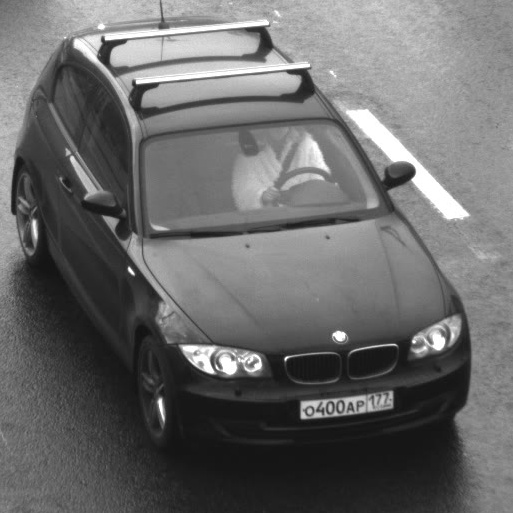plate: (287, 377, 403, 427)
